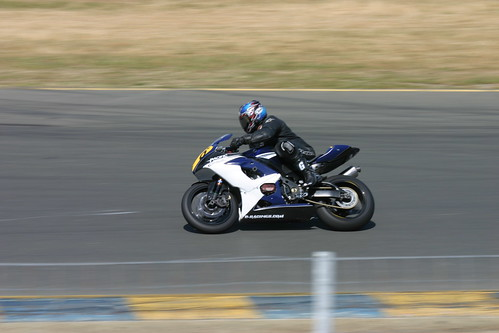helmet: (226, 95, 270, 129)
